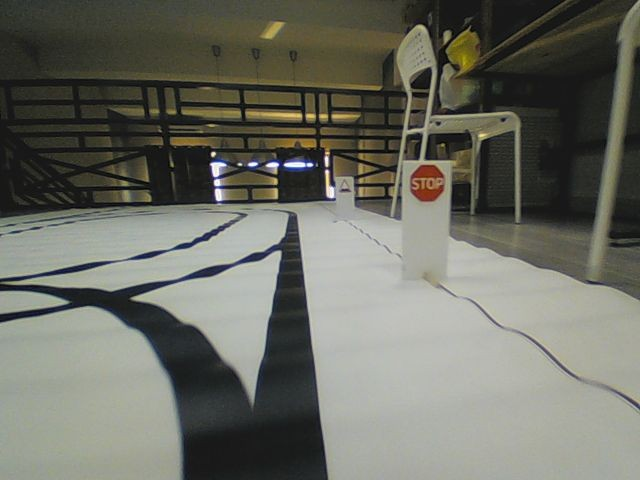Stop: (408, 163, 446, 203)
